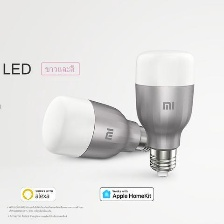light_bulb: (129, 44, 200, 182), (37, 91, 165, 163)
